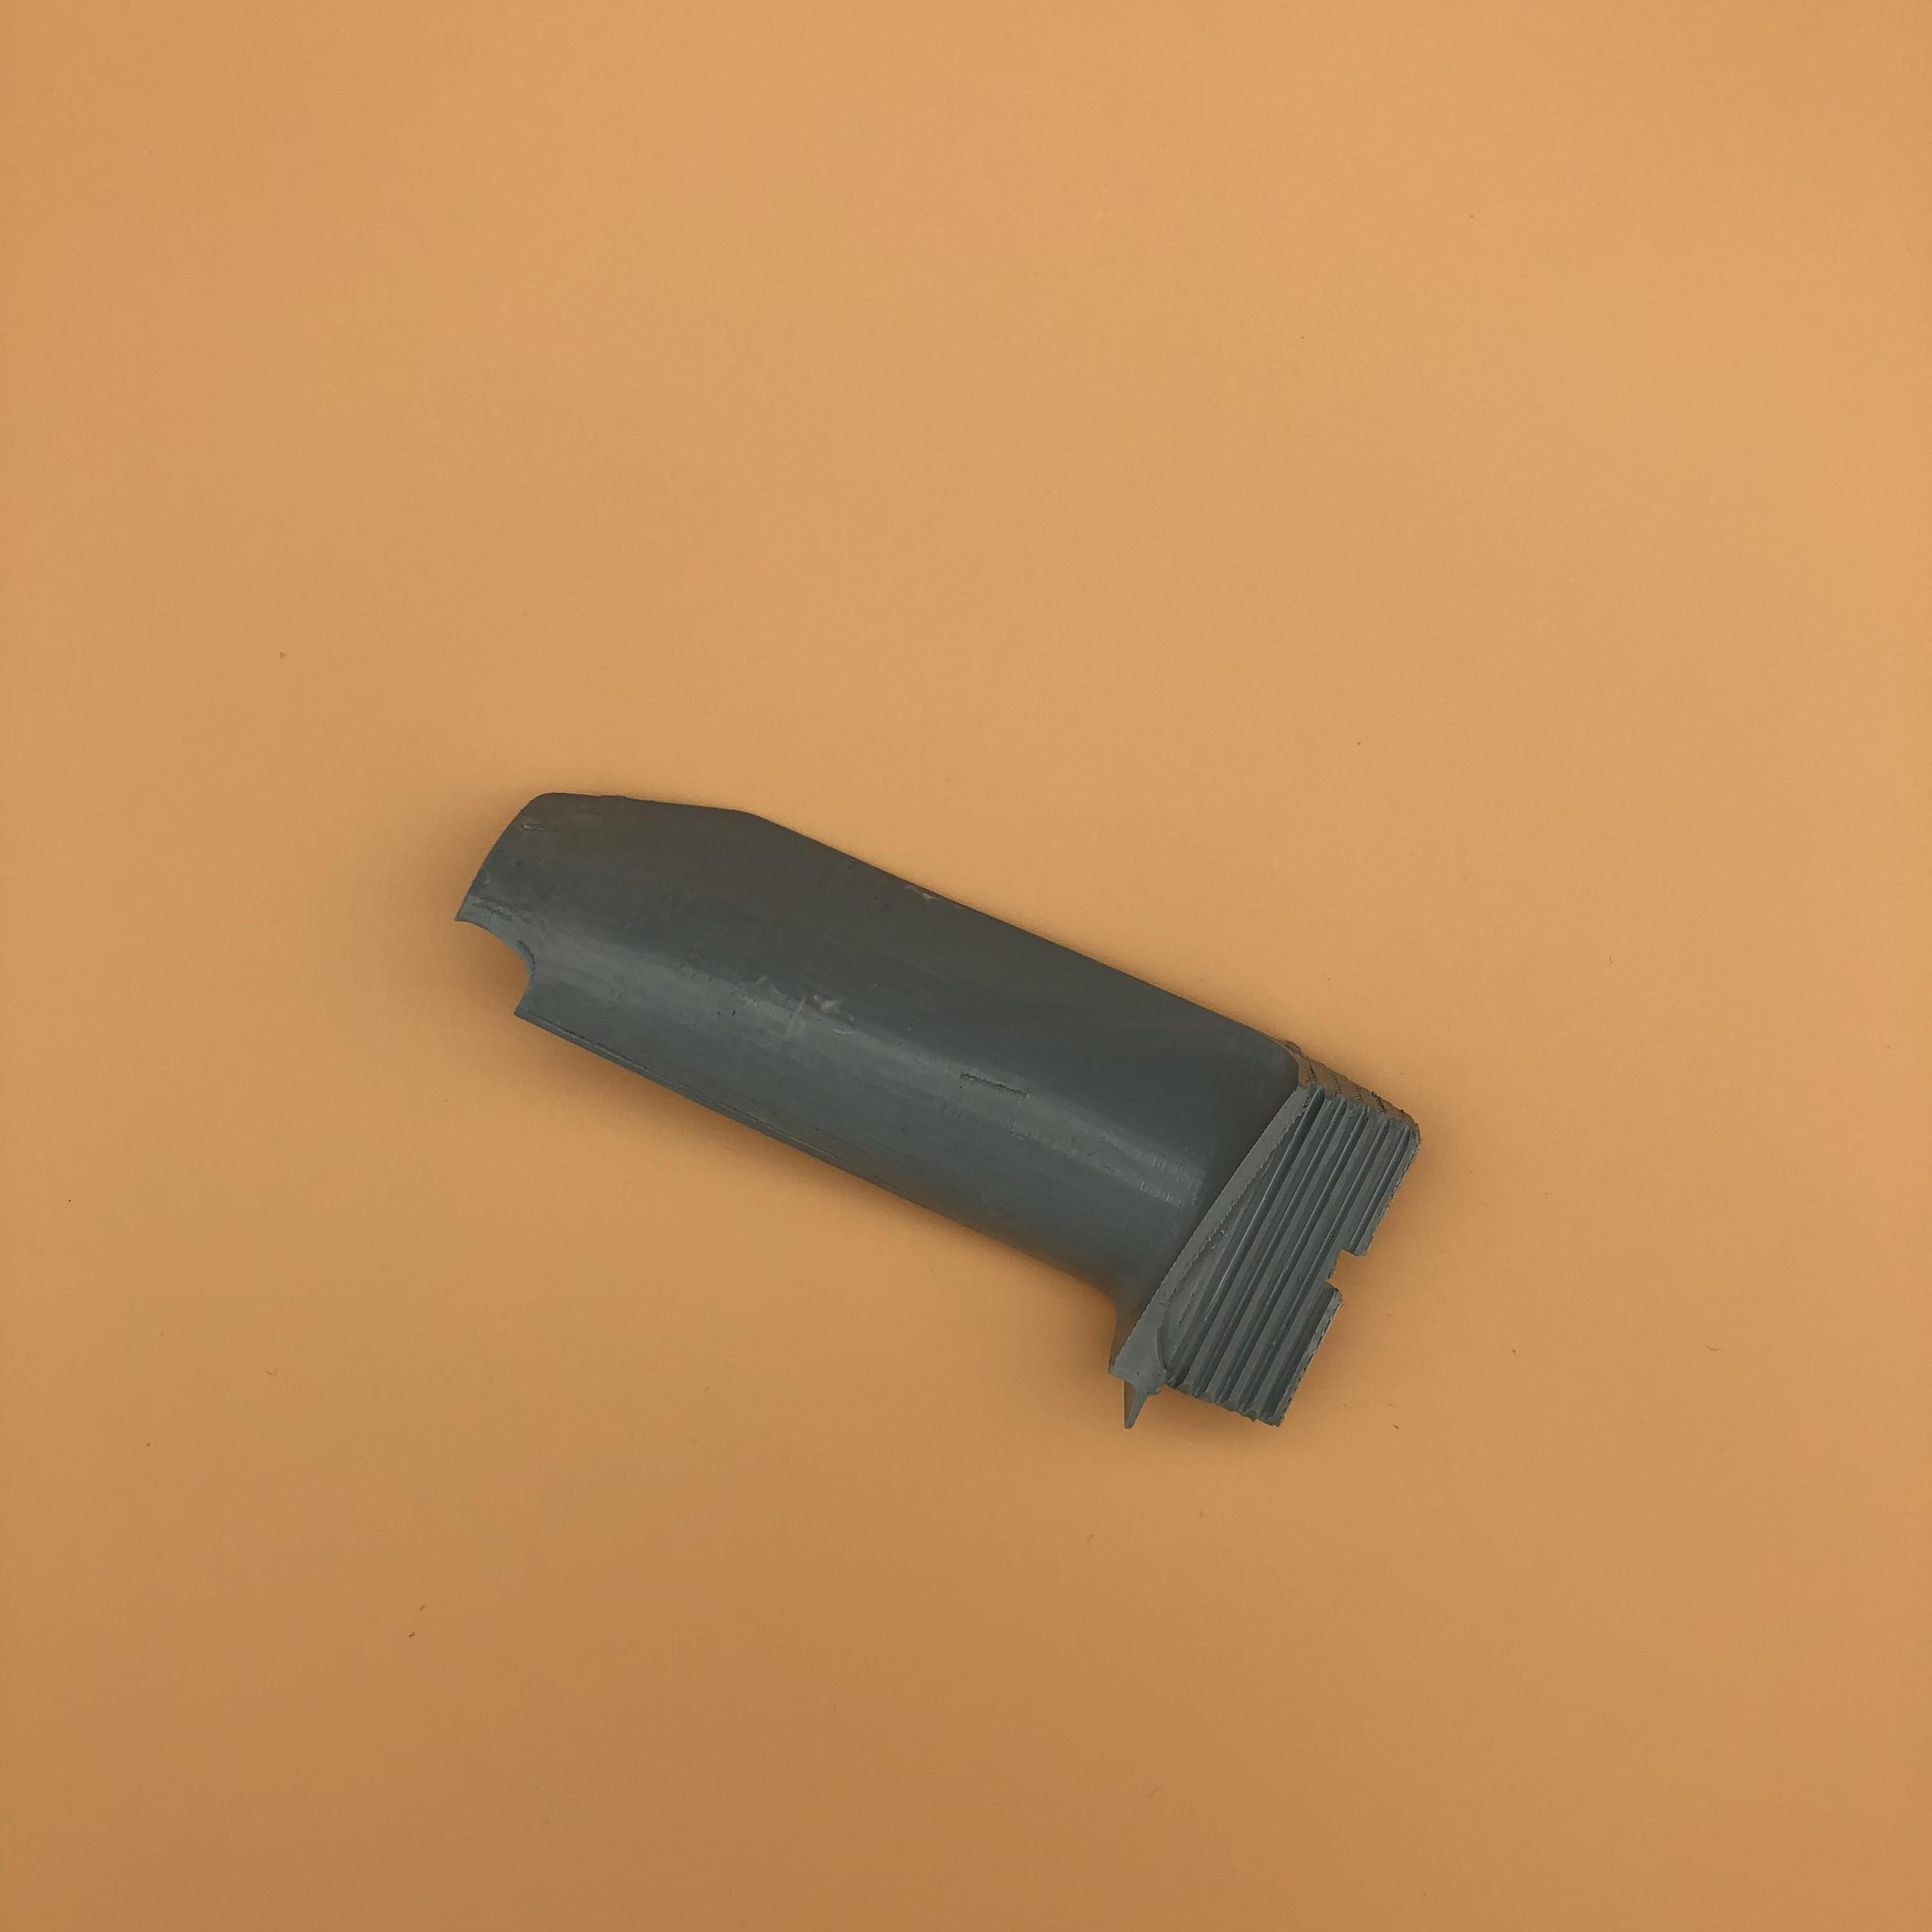fracture: (465, 920, 566, 1031)
